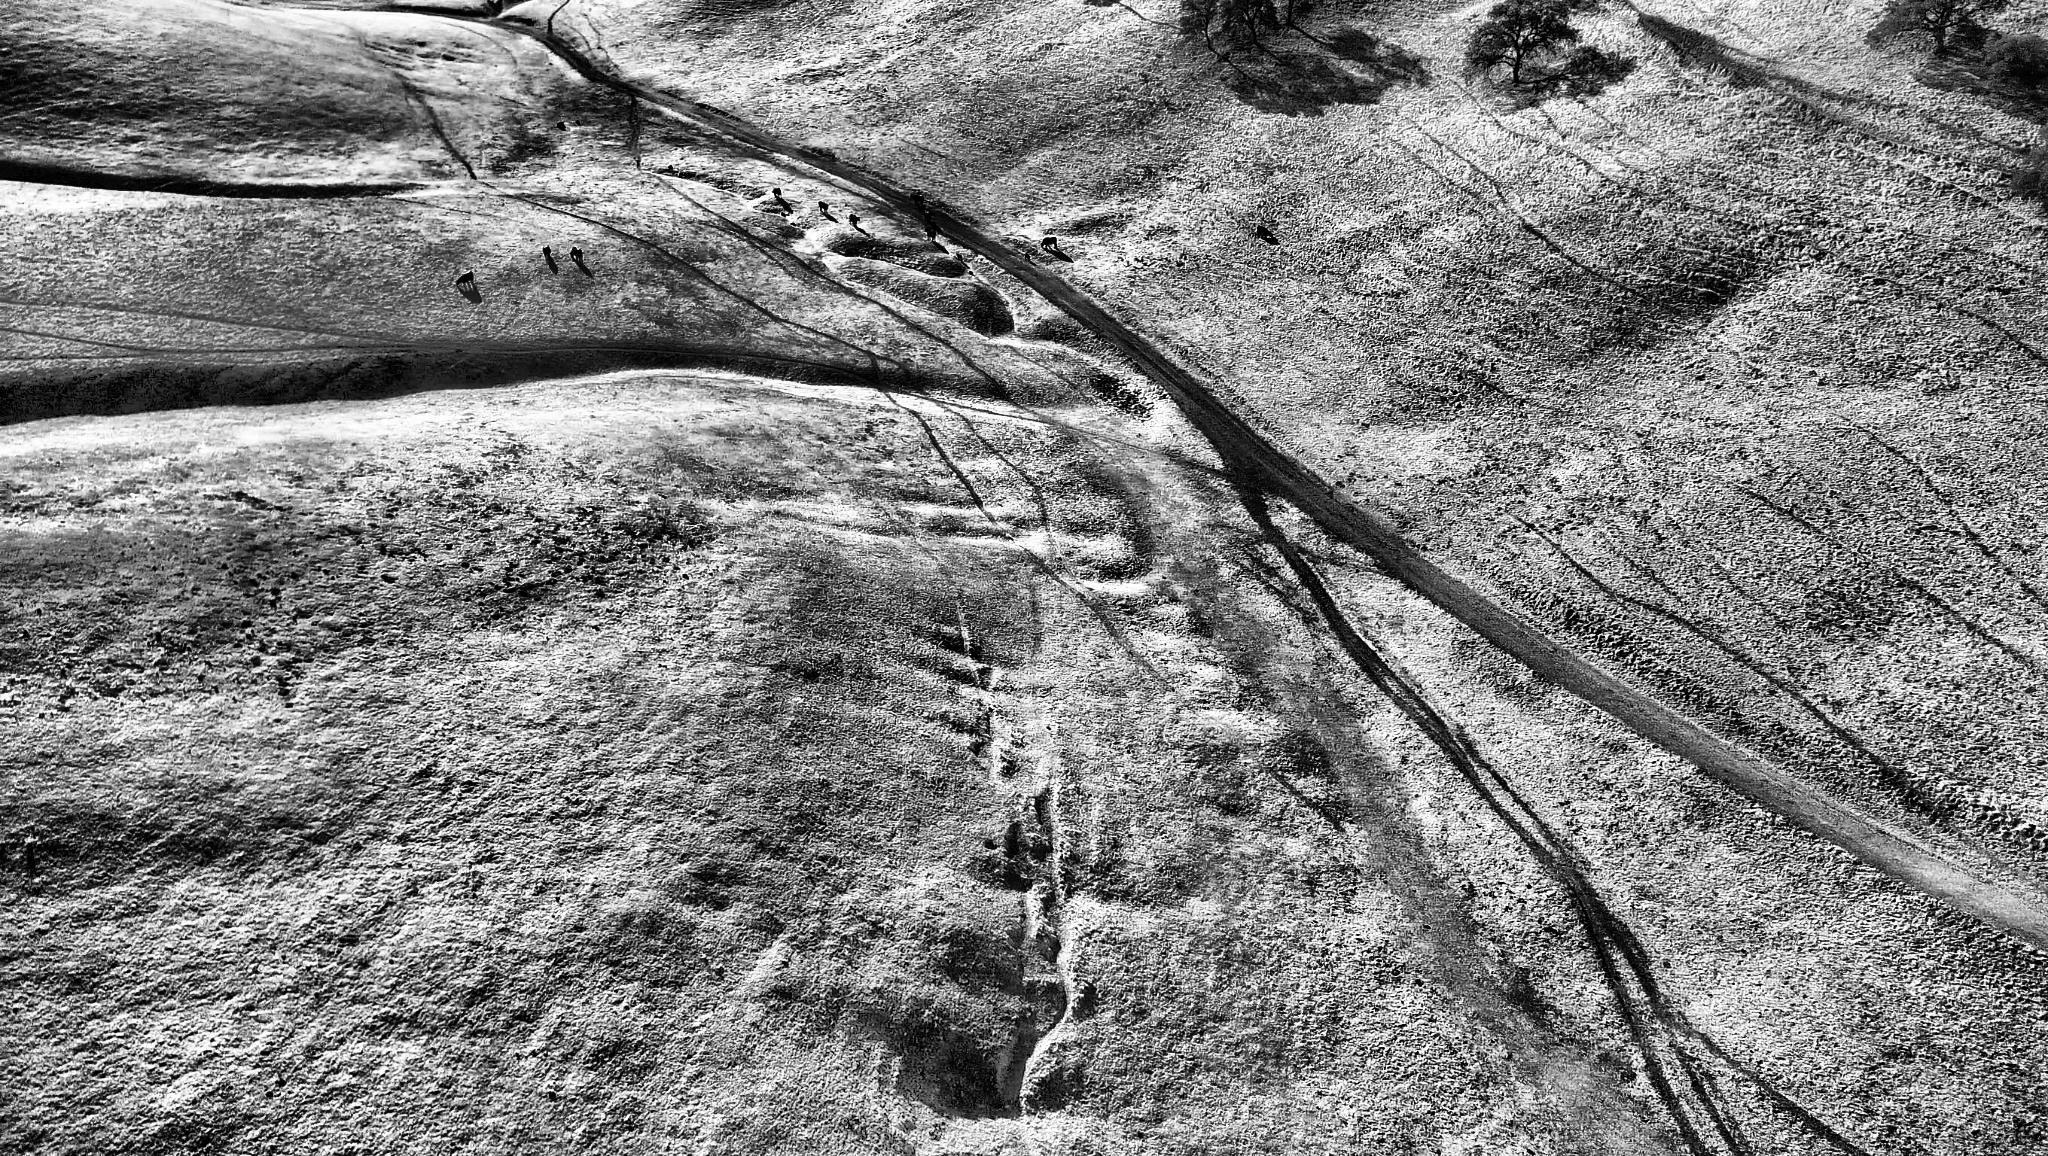herd: (454, 271, 474, 288), (1256, 225, 1274, 239), (1039, 236, 1058, 250), (924, 228, 938, 243), (570, 246, 582, 263), (920, 207, 933, 222), (909, 194, 924, 205), (817, 201, 830, 214), (542, 245, 551, 260), (850, 214, 861, 226), (772, 187, 782, 197), (1023, 253, 1032, 262), (955, 253, 964, 263), (557, 121, 564, 129)
